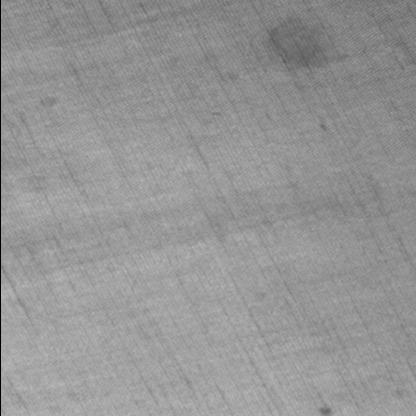oil spot: (262, 13, 350, 72)
